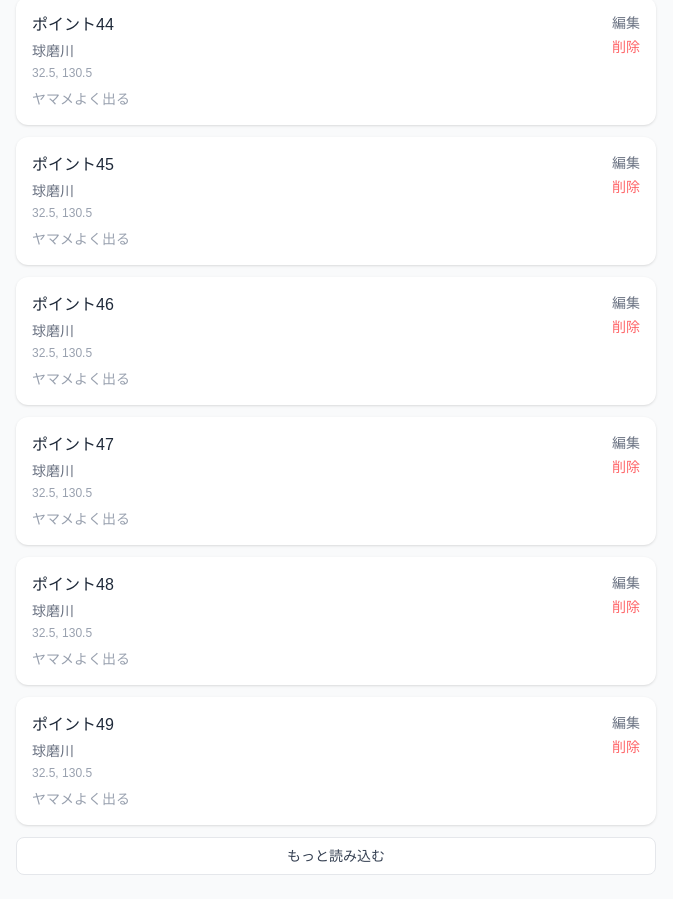
Test: SpotsPage › 50 件取得した場合はもっと読み込むボタンで次ページを追加する
(page scrolled)
What coordinates should you click on to do the following:
click the button "もっと読み込む"
I would click on:
 (336, 856)
Its box is [16,837,656,875].
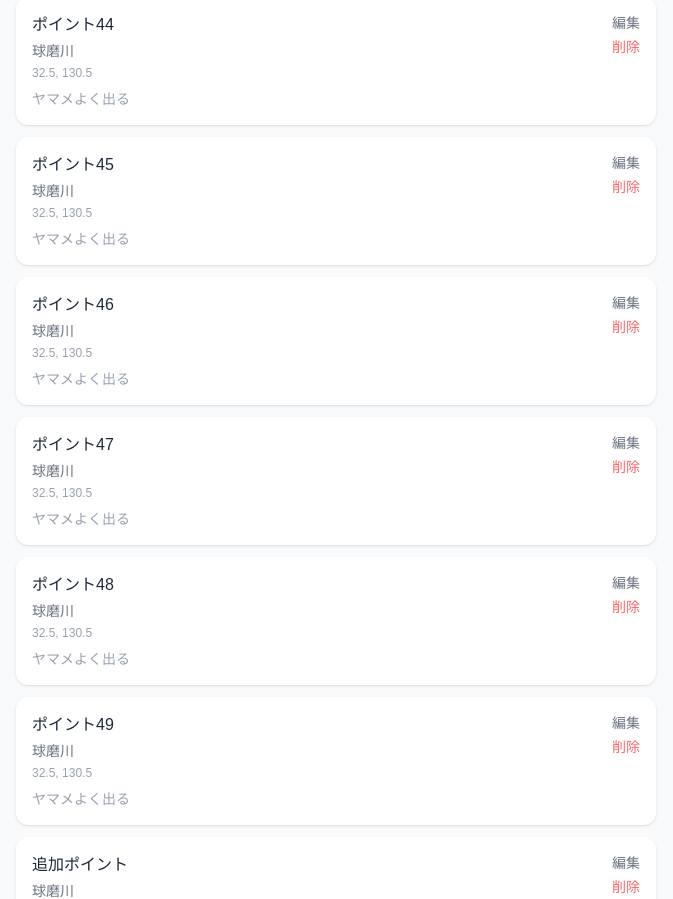
Now the text "追加ポイント" is shown, box [32,853,130,877]
